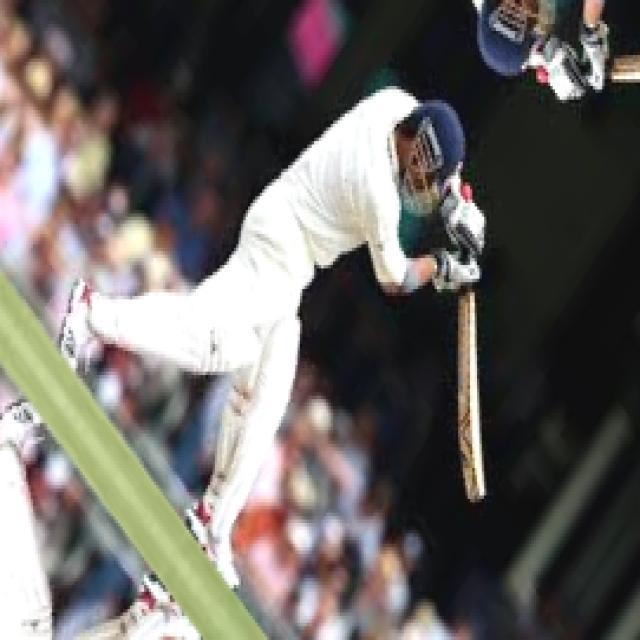toe: (451, 461, 499, 512)
